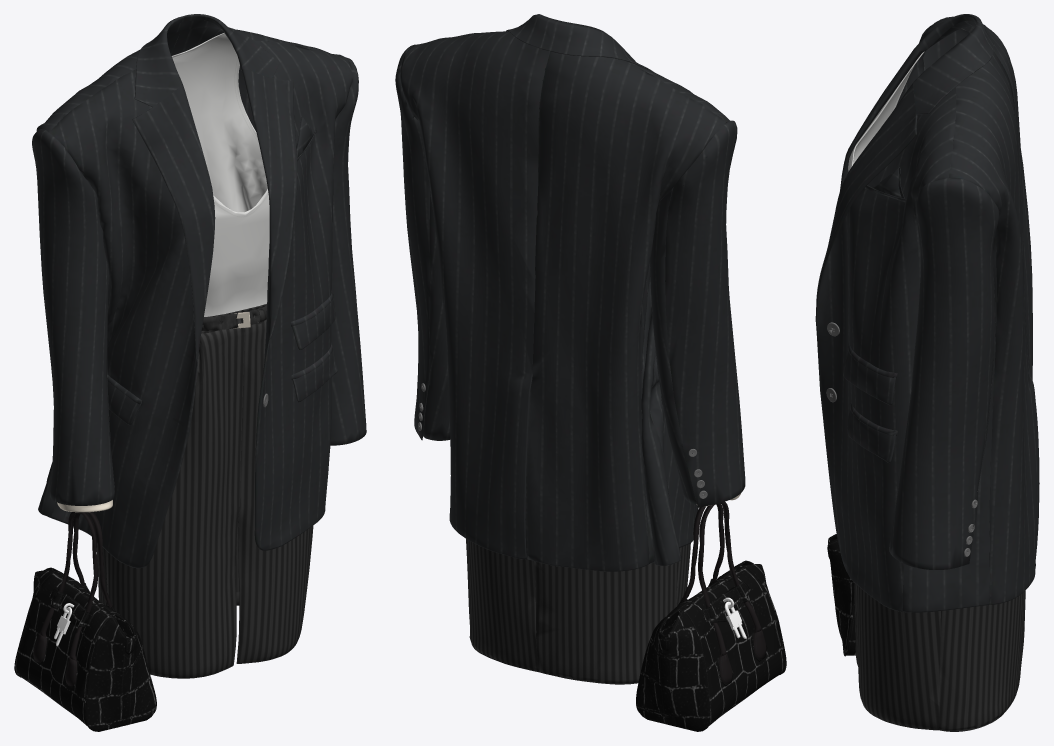
The picture shows the model from 3 angles, left to right: view 1: azimuth 30°, elevation 25°; view 2: azimuth 150°, elevation 25°; view 3: azimuth 270°, elevation 25°; orthographic projection. The views are drawn at different scales.
Parts seen in each view (by area): view 1: Object_12, Object_24, Object_11, Object_17, Object_29, Object_27, Object_14, Object_26, Object_28, Object_15, Object_16, Object_13 (+3 smaller); view 2: Object_16, Object_13, Object_17, Object_22, Object_14, Object_29, Object_23, Object_30, Object_18, Object_28, Object_15, Object_12; view 3: Object_11, Object_14, Object_13, Object_24, Object_23, Object_10, Object_16, Object_15, Object_29, Object_17, Object_12, Object_26.
Part boxes in pixels (x1=…): Object_12: x1=49, y1=69, x2=215, y2=568; Object_24: x1=105, y1=319, x2=313, y2=678; Object_11: x1=241, y1=40, x2=353, y2=550; Object_17: x1=32, y1=15, x2=332, y2=505; Object_29: x1=15, y1=572, x2=156, y2=731; Object_27: x1=171, y1=33, x2=267, y2=212; Object_14: x1=330, y1=57, x2=366, y2=445; Object_26: x1=204, y1=188, x2=269, y2=316; Object_28: x1=33, y1=512, x2=135, y2=688; Object_15: x1=107, y1=31, x2=337, y2=496; Object_16: x1=36, y1=14, x2=279, y2=131; Object_13: x1=171, y1=27, x2=346, y2=131; Object_16: x1=506, y1=14, x2=725, y2=571; Object_13: x1=400, y1=31, x2=549, y2=559; Object_17: x1=412, y1=20, x2=745, y2=507; Object_22: x1=534, y1=561, x2=678, y2=683; Object_14: x1=395, y1=44, x2=450, y2=440; Object_29: x1=661, y1=560, x2=786, y2=725; Object_23: x1=466, y1=539, x2=538, y2=671; Object_30: x1=636, y1=565, x2=742, y2=731; Object_18: x1=640, y1=198, x2=681, y2=565; Object_28: x1=677, y1=501, x2=767, y2=686; Object_15: x1=650, y1=187, x2=696, y2=504; Object_12: x1=628, y1=61, x2=729, y2=547; Object_11: x1=815, y1=83, x2=956, y2=611; Object_14: x1=889, y1=177, x2=999, y2=569; Object_13: x1=948, y1=51, x2=1039, y2=604; Object_24: x1=854, y1=583, x2=940, y2=730; Object_23: x1=873, y1=590, x2=1025, y2=730; Object_10: x1=848, y1=236, x2=996, y2=612; Object_16: x1=913, y1=16, x2=1032, y2=379; Object_15: x1=843, y1=26, x2=973, y2=463; Object_29: x1=829, y1=534, x2=855, y2=656; Object_17: x1=850, y1=14, x2=993, y2=435; Object_12: x1=840, y1=16, x2=952, y2=190; Object_26: x1=848, y1=51, x2=924, y2=171.
Size of the model in its own units: 530 by 1022 by 302.
Materials: 10 (5 with a texture image).
